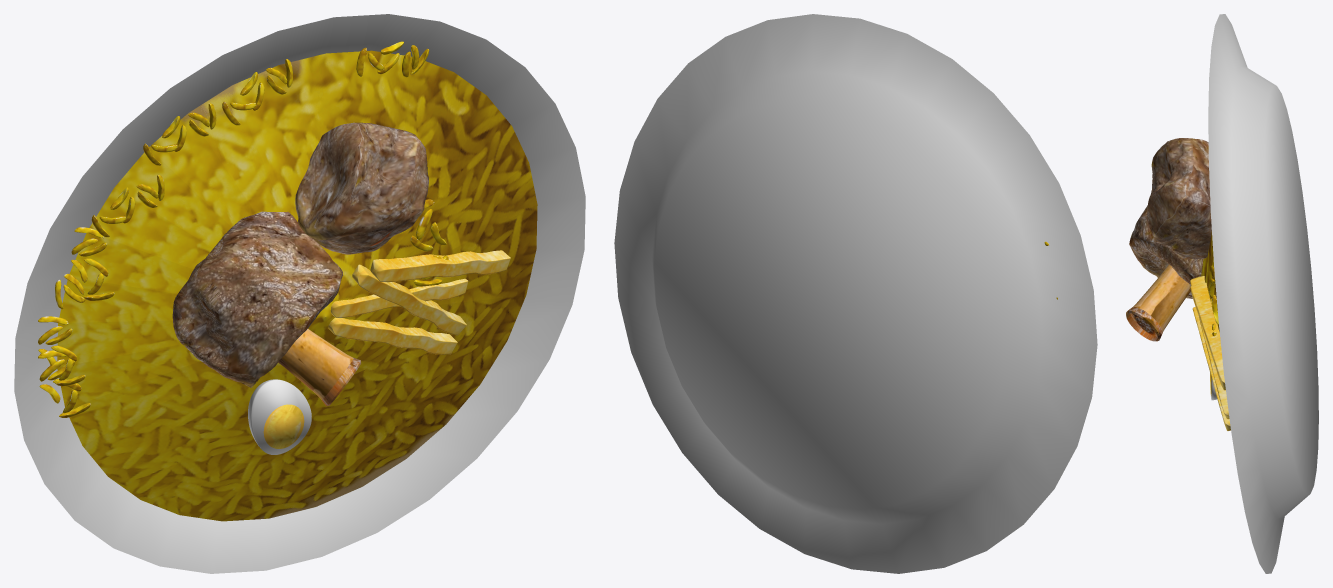
The model's file is smmtnkabsa-v7.glb.
3 views of the same model, side by side, from view 1: azimuth 30°, elevation 25°; view 2: azimuth 150°, elevation 25°; view 3: azimuth 270°, elevation 25° (orthographic). The views are drawn at different scales.
Parts seen in each view (by area): view 1: Cone, Circle.002, Cube, Cube.005, Sphere, Cylinder, Cube.004, Cube.001, Cube.003, Cube.002, Plane.008, Plane.011 (+6 smaller); view 2: Circle.002; view 3: Circle.002, Cube.005, Cylinder, Cube, Cube.004, Cube.003, Cube.001, Cone, Plane.029.
Boxes of the visible parts, x1,y1,x2,y2 form: Cone: (57, 50, 537, 521); Circle.002: (14, 14, 585, 573); Cube: (172, 211, 342, 387); Cube.005: (295, 122, 428, 254); Sphere: (248, 379, 311, 454); Cylinder: (278, 329, 360, 406); Cube.004: (370, 250, 510, 282); Cube.001: (328, 317, 457, 354); Cube.003: (352, 264, 466, 335); Cube.002: (330, 278, 468, 317); Plane.008: (71, 227, 114, 300); Plane.011: (222, 59, 292, 125); Circle.002: (614, 14, 1097, 573); Circle.002: (1208, 14, 1318, 573); Cube.005: (1146, 138, 1211, 258); Cylinder: (1126, 264, 1190, 341); Cube: (1129, 205, 1203, 298); Cube.004: (1190, 282, 1225, 390); Cube.003: (1190, 276, 1229, 419); Cube.001: (1192, 307, 1230, 430); Cone: (1201, 231, 1219, 331); Plane.029: (1208, 265, 1218, 336).
Size of the model in its own units: 8.73 by 8.68 by 2.99.
Materials: 20 (18 with a texture image).
